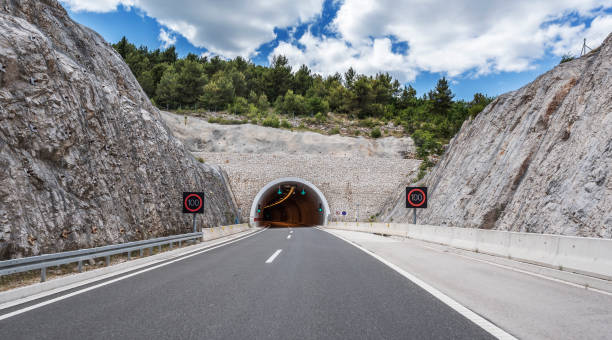Real_Tunnel: (243, 174, 335, 229)
